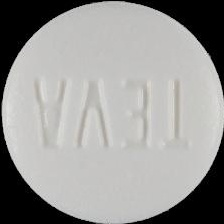35356-990: (0, 0, 224, 224)
